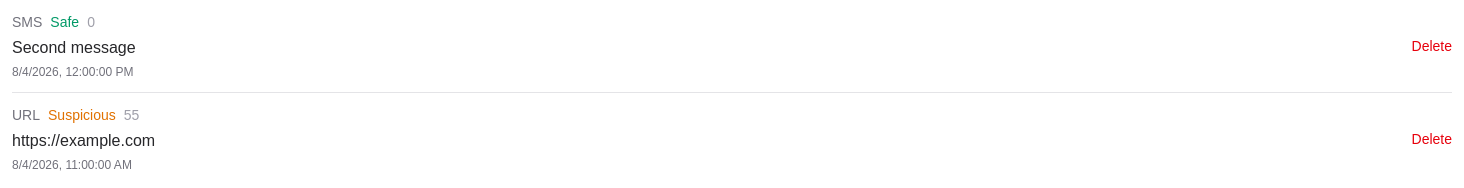
HistoryList › deletes a scan after confirmation and removes it from the list
The image size is (1464, 188).
Check: the text "https://example.com" is shown, box [12,132,155,149]
Step 1. Click the button "Delete" in the row of "https://example.com" → (1432, 139), box [1412,129,1452,149]
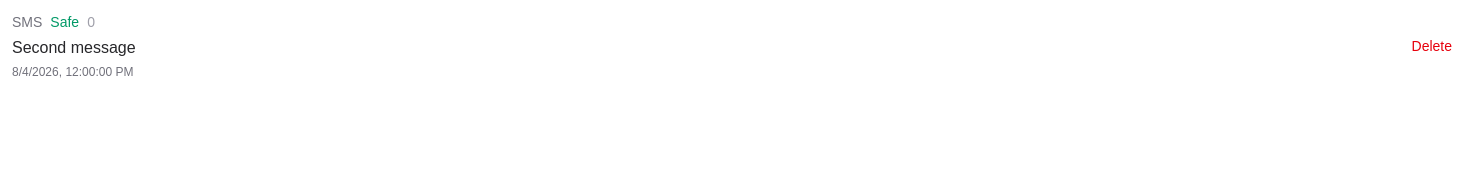
Check: the text "Second message" is shown, box [12,39,136,56]
Check: the link "https://example.com" is gone
